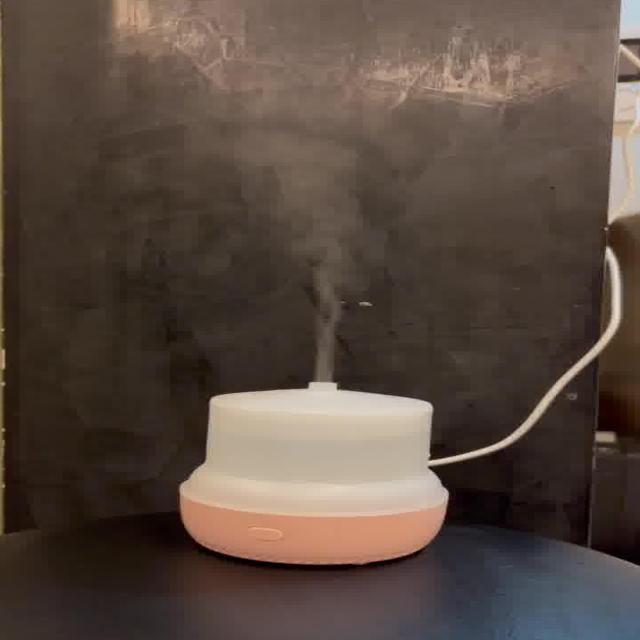fire: (226, 104, 426, 375)
